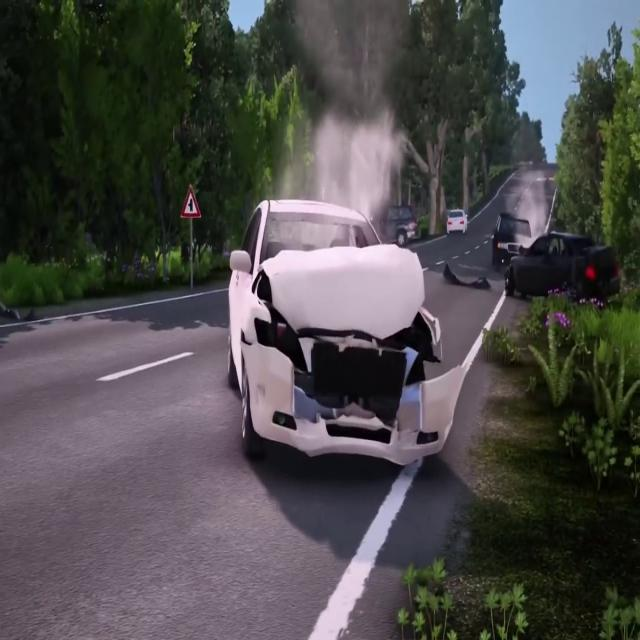accident: (491, 206, 622, 307)
